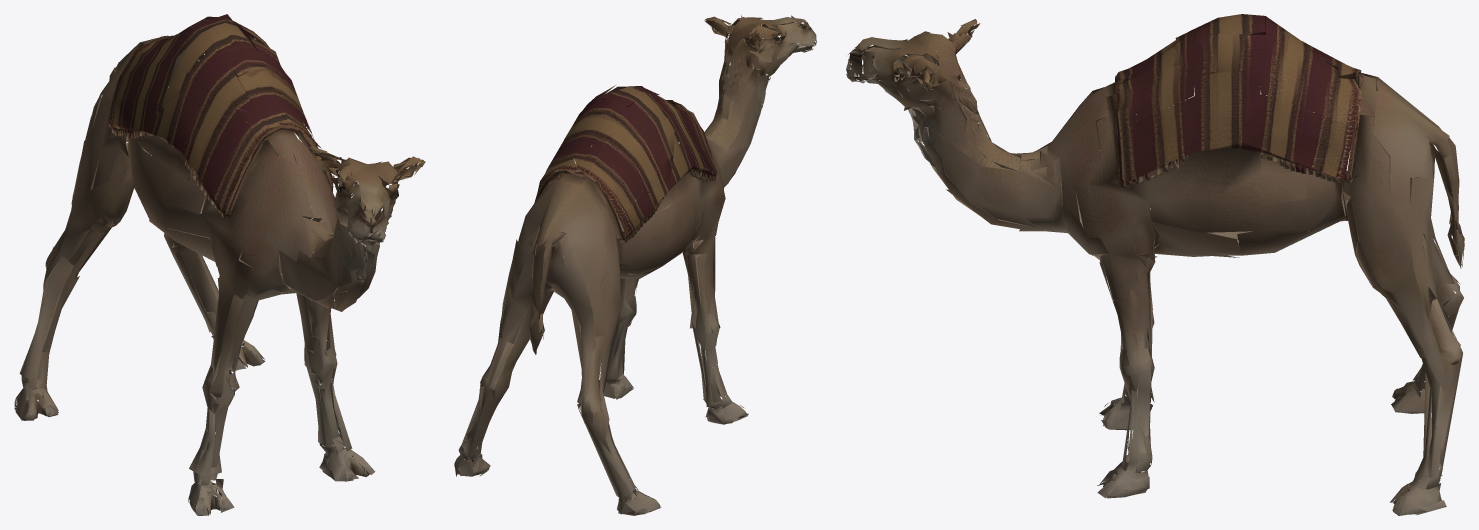
File: camel.glb
3 renders of one model, left to right at view 1: azimuth 30°, elevation 25°; view 2: azimuth 150°, elevation 25°; view 3: azimuth 270°, elevation 25°, orthographic. The views are drawn at different scales.
Visible parts, largest first — view 1: tripo_node_2b05b5d0-eaf0-4c1e-b808-f708466bdec1; view 2: tripo_node_2b05b5d0-eaf0-4c1e-b808-f708466bdec1; view 3: tripo_node_2b05b5d0-eaf0-4c1e-b808-f708466bdec1.
Boxes of the visible parts, x1,y1,x2,y2 form: tripo_node_2b05b5d0-eaf0-4c1e-b808-f708466bdec1: [14, 14, 425, 515]; tripo_node_2b05b5d0-eaf0-4c1e-b808-f708466bdec1: [454, 15, 816, 515]; tripo_node_2b05b5d0-eaf0-4c1e-b808-f708466bdec1: [846, 14, 1464, 515].
Bounding box in the file's own units: 1.21 × 2.01 × 2.56.
Materials: 1 (1 with a texture image).
